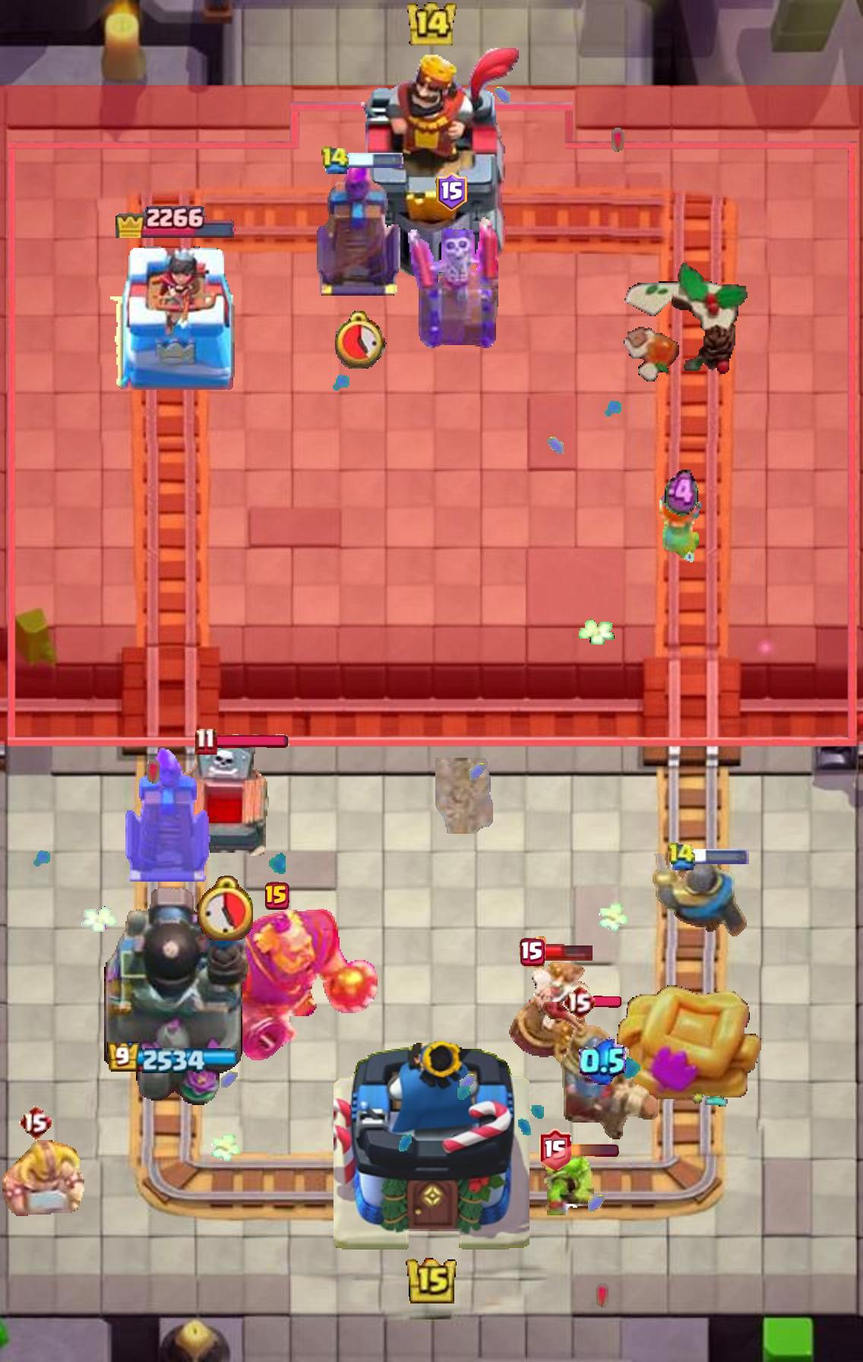bar: (579, 1037, 626, 1085), (665, 469, 698, 519)
